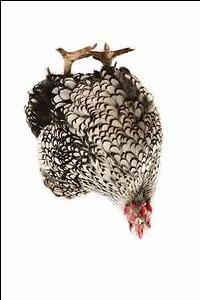hen: (23, 42, 163, 240)
